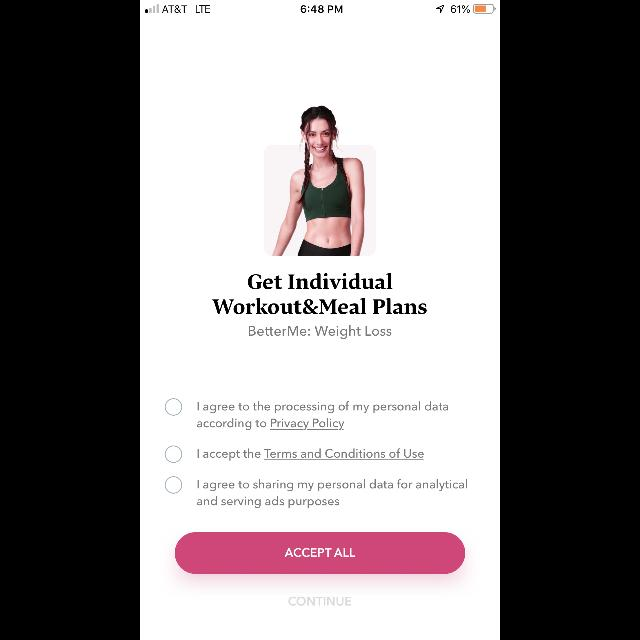checkbox: (164, 398, 182, 416), (164, 476, 182, 494), (164, 446, 182, 462)
image: (264, 106, 376, 256)
text: (212, 274, 426, 314), (197, 479, 467, 508), (197, 402, 448, 431), (198, 448, 424, 460), (248, 325, 392, 339), (288, 596, 352, 606)
textbutton: (175, 532, 465, 574)
uppertaskbar: (140, 0, 500, 14)
